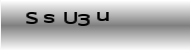3: (76, 13, 91, 26)
S: (25, 11, 38, 24)
U: (63, 11, 79, 25)
s: (43, 14, 55, 24)
u: (96, 11, 110, 22)
